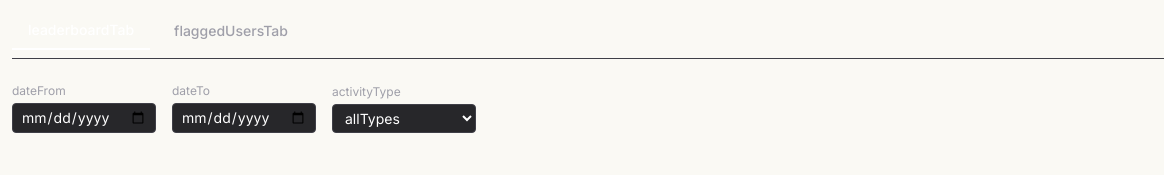
Scenario: LeaderboardTable › shows flagged user data in flagged tab
The image size is (1164, 175).
Step 1. Click the button "flaggedUsersTab" → [231, 31], box [158,12,304,50]
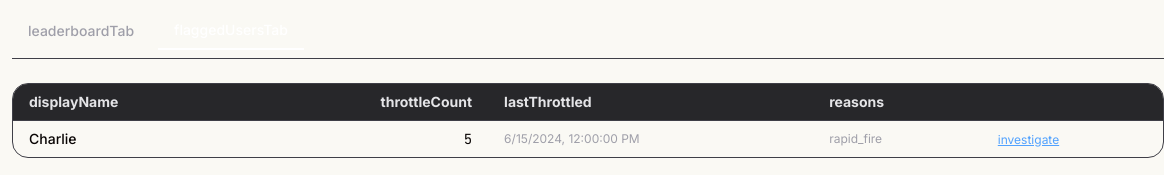
Check: the text "Charlie" is shown, box [13,120,248,157]
